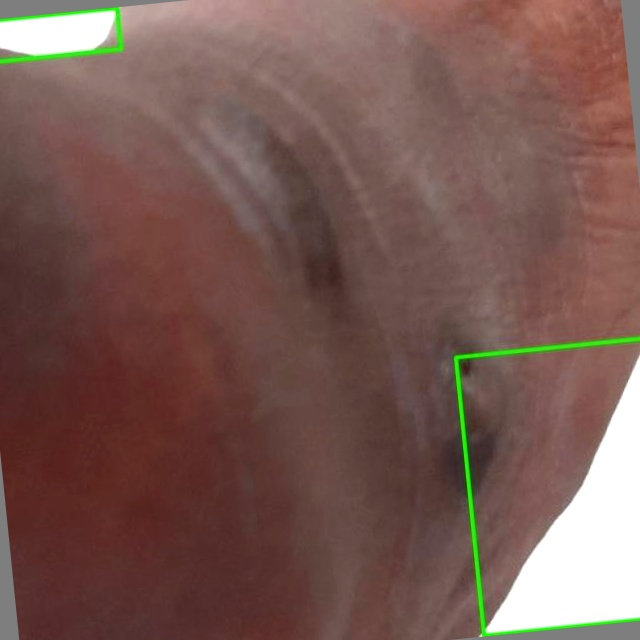Eczema: (456, 338, 639, 635), (0, 7, 121, 61)
